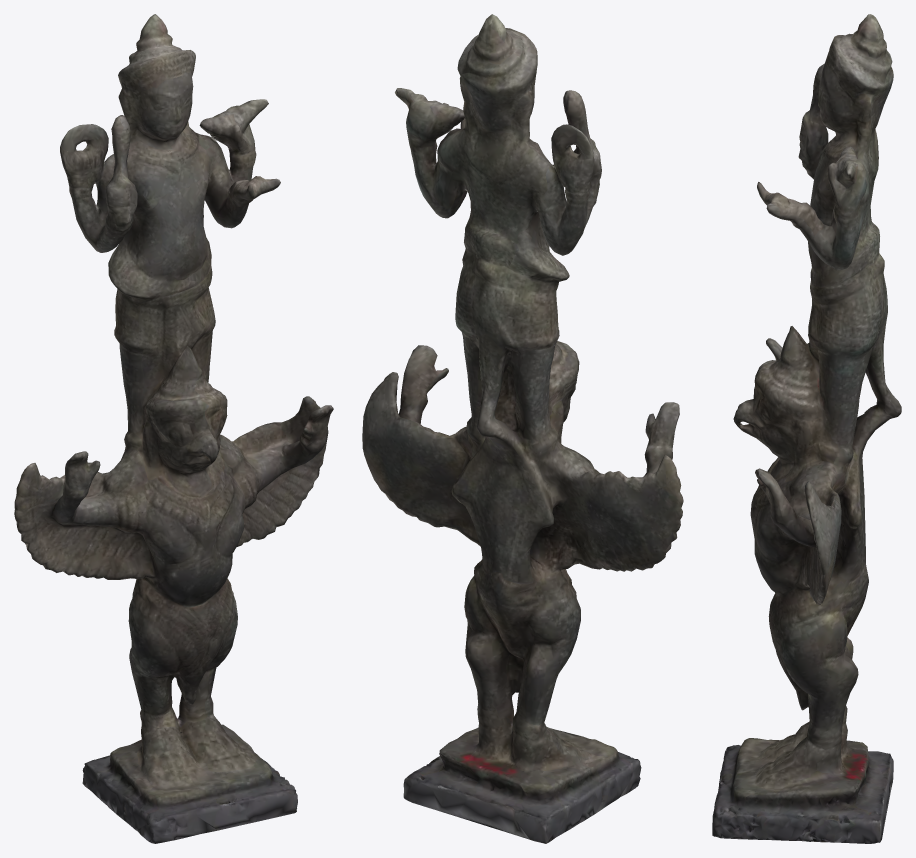
File: vishnu-garuda-lo.glb
3 renders of one model, left to right at view 1: azimuth 30°, elevation 25°; view 2: azimuth 150°, elevation 25°; view 3: azimuth 270°, elevation 25°, orthographic. The views are drawn at different scales.
Parts seen in each view (by area): view 1: Object_2; view 2: Object_2; view 3: Object_2.
Boxes of the visible parts, bbox=[...] form: Object_2: bbox=[14, 14, 333, 843]; Object_2: bbox=[362, 14, 683, 843]; Object_2: bbox=[712, 14, 901, 843].
Size of the model in its own units: 0.1537 by 0.364 by 0.0787.
Materials: 1 (1 with a texture image).
